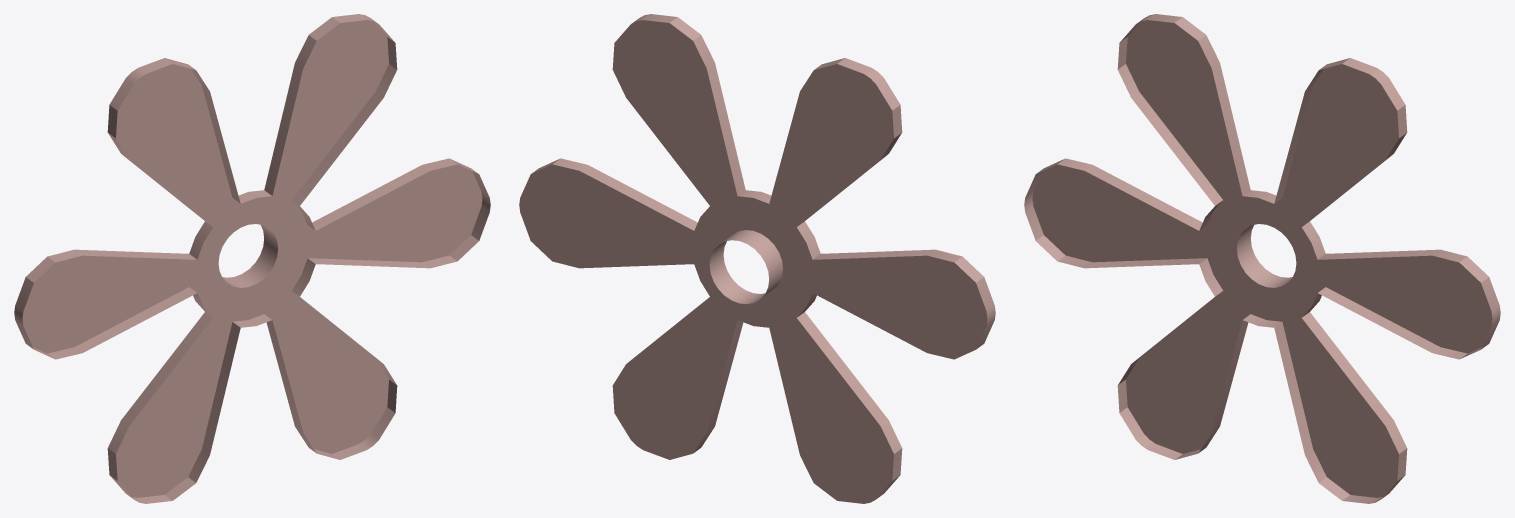
Rendered from fan_lopast.glb.
3 views of the same model, side by side, from view 1: azimuth 30°, elevation 25°; view 2: azimuth 150°, elevation 25°; view 3: azimuth 330°, elevation 25° (orthographic).
Parts seen in each view (by area): view 1: Circle_2.002; view 2: Circle_2.002; view 3: Circle_2.002.
Part boxes in pixels (box(x1,y1,x2,y2)): Circle_2.002: box(14, 14, 490, 503); Circle_2.002: box(519, 14, 995, 503); Circle_2.002: box(1024, 14, 1500, 503).
Bounding box in the file's own units: 0.9383 × 0.8368 × 0.0771.
